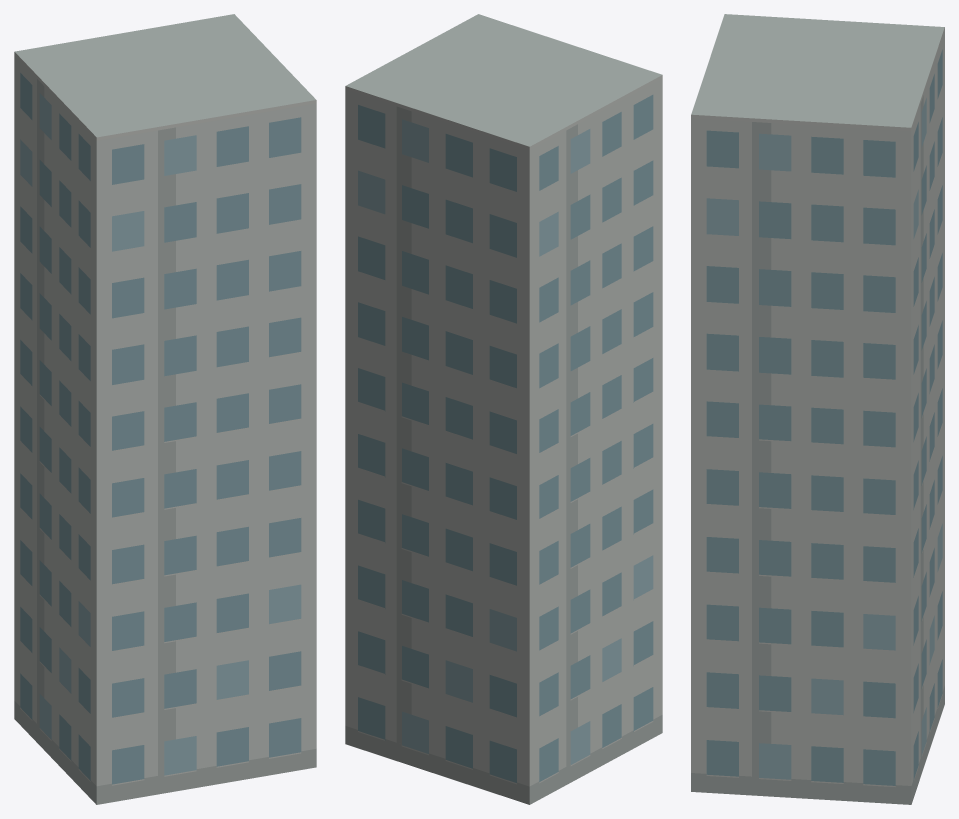
The model's file is residential-1671f3c4-561b-4be0-969f-7e499c69a5e9.glb.
3 renders of one model, left to right at view 1: azimuth 30°, elevation 25°; view 2: azimuth 150°, elevation 25°; view 3: azimuth 270°, elevation 25°, orthographic. The views are drawn at different scales.
Parts seen in each view (by area): view 1: residential-1671f3c4-561b-4be0-969f-7e499c69a5e9.tmp; view 2: residential-1671f3c4-561b-4be0-969f-7e499c69a5e9.tmp; view 3: residential-1671f3c4-561b-4be0-969f-7e499c69a5e9.tmp.
Part boxes in pixels (x1,y1,x2,y2): residential-1671f3c4-561b-4be0-969f-7e499c69a5e9.tmp: (14, 14, 316, 804); residential-1671f3c4-561b-4be0-969f-7e499c69a5e9.tmp: (345, 14, 662, 804); residential-1671f3c4-561b-4be0-969f-7e499c69a5e9.tmp: (691, 14, 944, 804).
Bounding box in the file's own units: 16.58 × 46 × 15.63.
